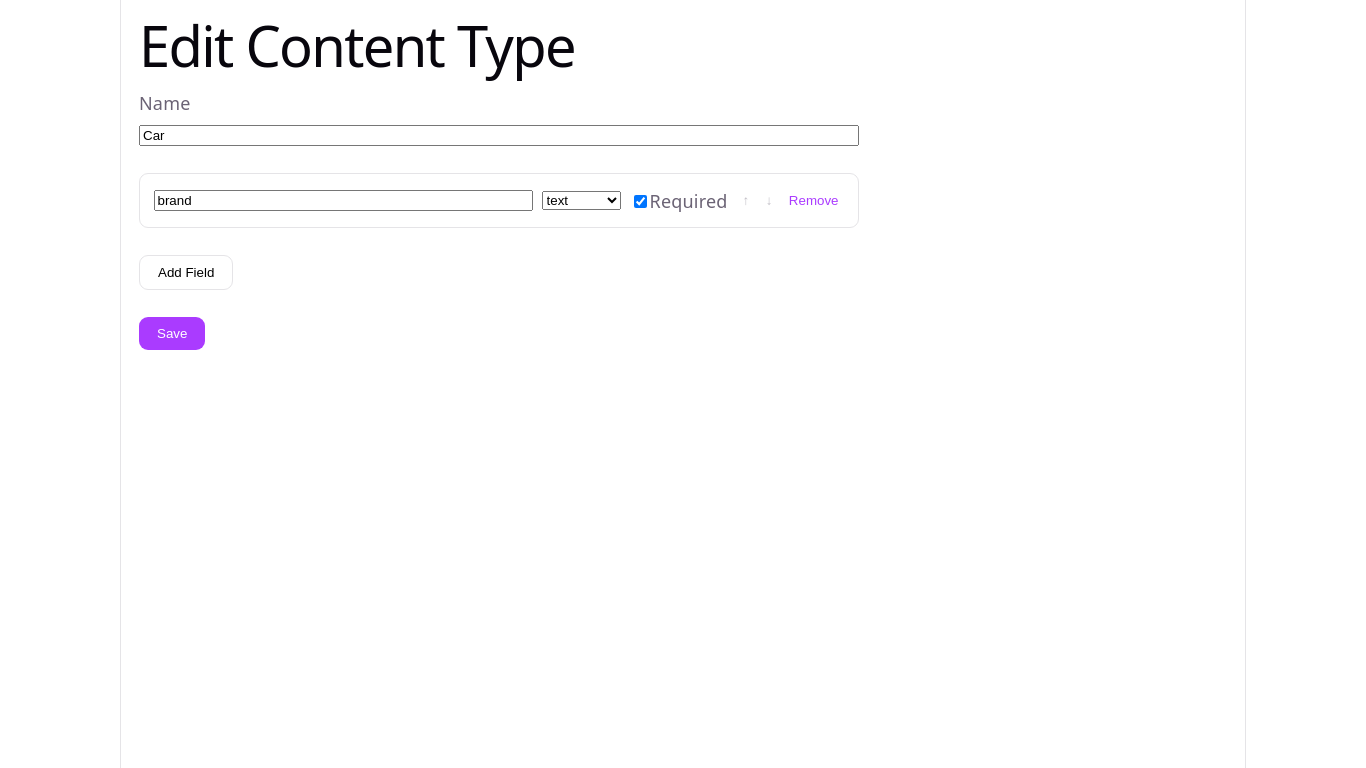
Test: SchemaEditorPage — edit mode › disables Save and shows "Saving…" while the mutation is pending
expect the field labelled "Name" is shown: met, box [139,125,859,146]
Click the button "Save" at (172, 334), box [139,317,205,350]
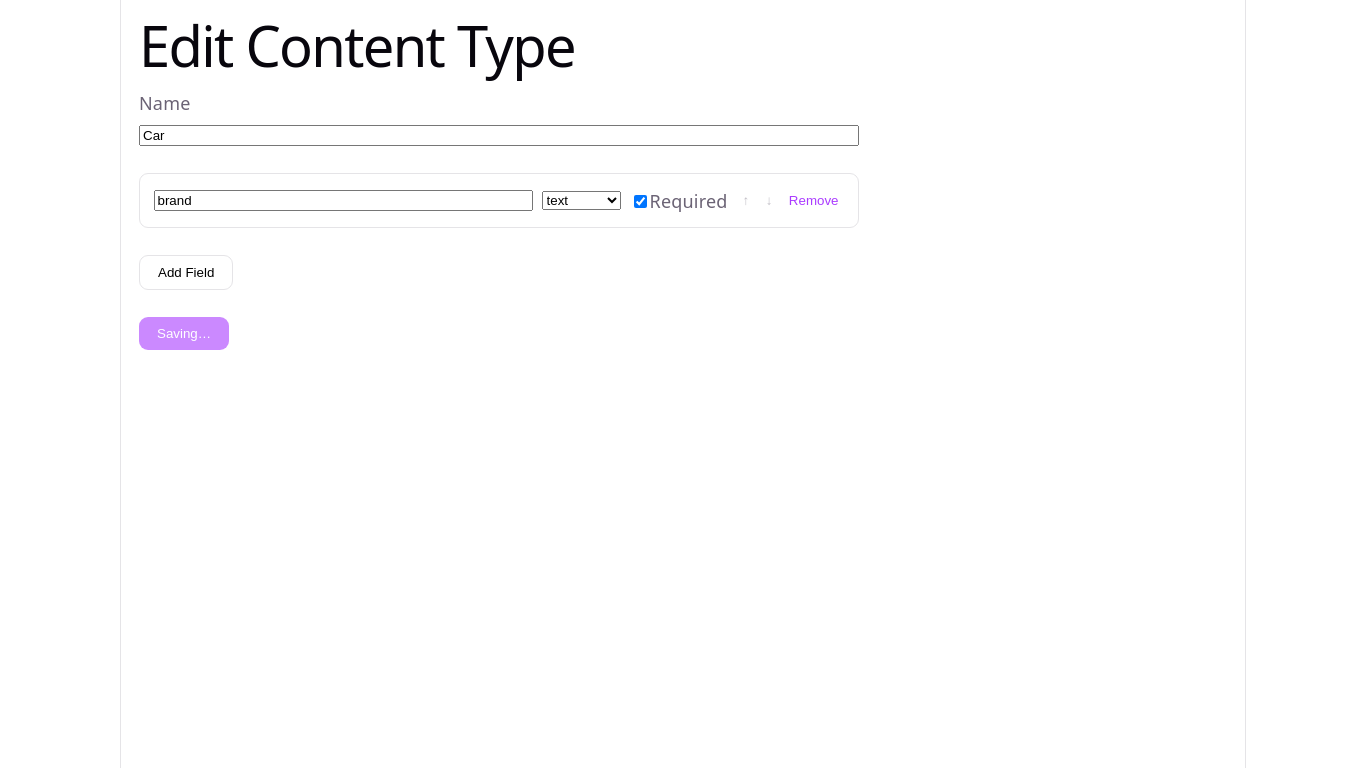
expect the button "Saving…" is disabled: met, box [139,317,229,350]
